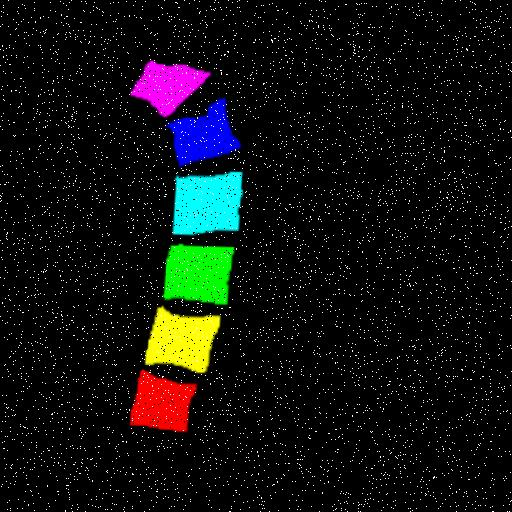L1: (131, 370, 198, 429)
L2: (146, 306, 221, 372)
L3: (164, 244, 235, 303)
L4: (173, 171, 243, 234)
L5: (166, 98, 239, 165)
S1: (130, 61, 210, 116)
